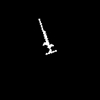double_crochet: (39, 19, 55, 54)
